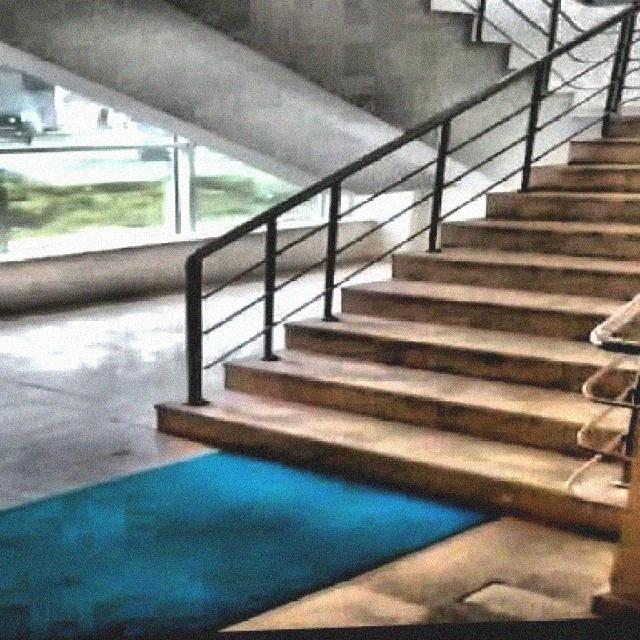stair: (158, 84, 638, 558)
